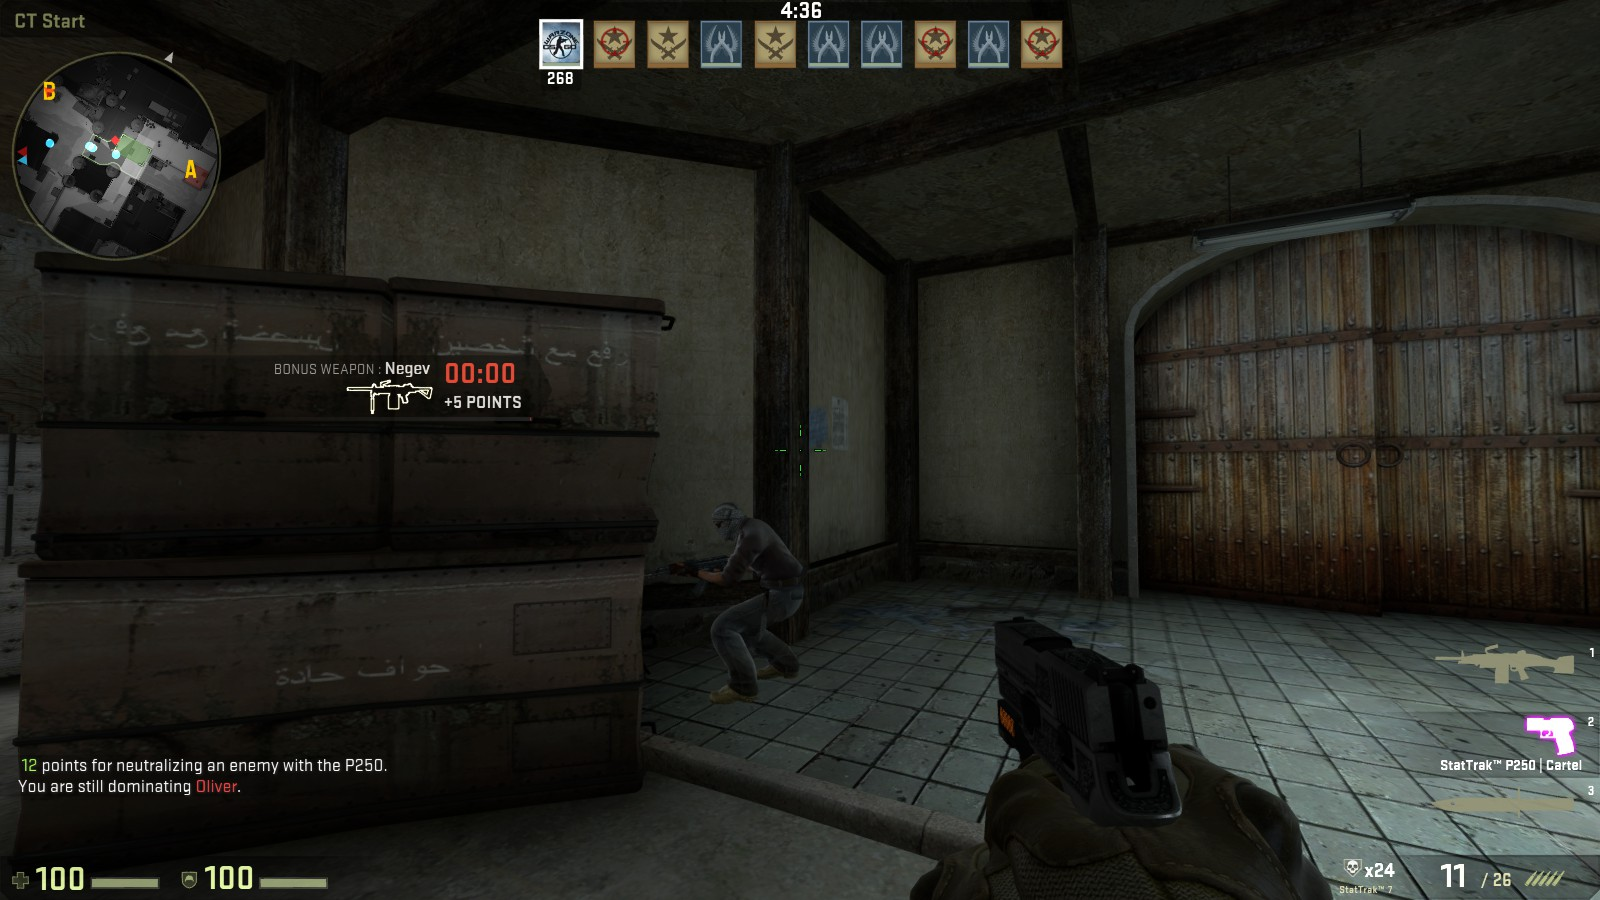t: (692, 500, 811, 701)
th: (713, 499, 751, 545)
